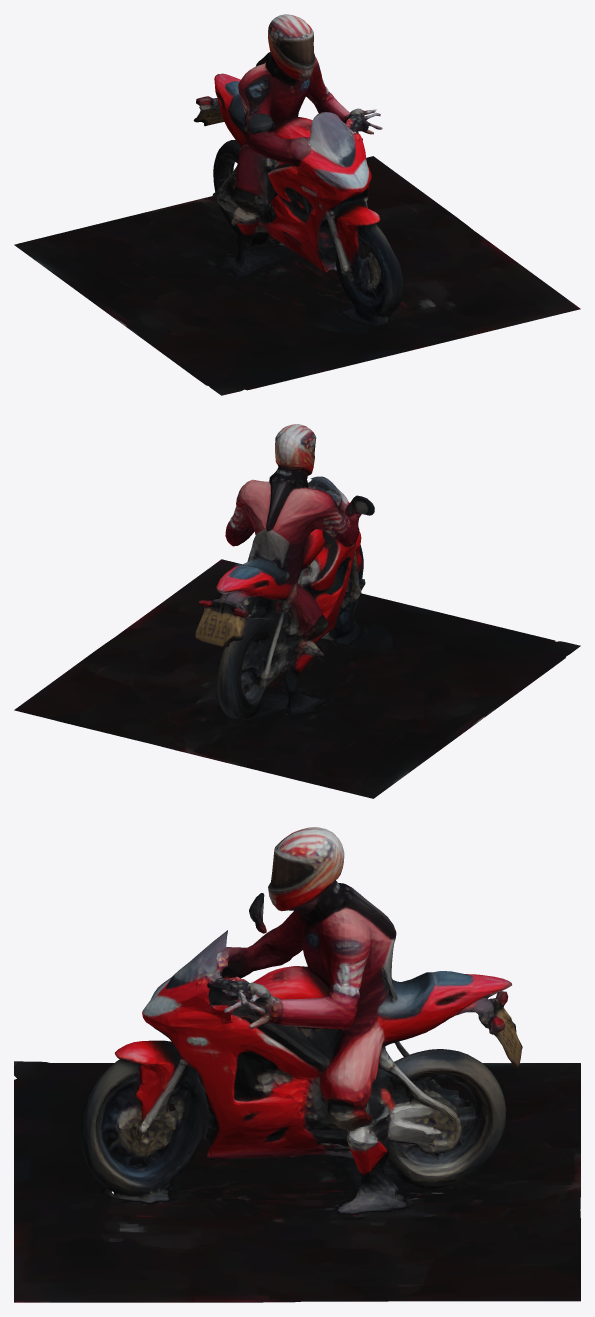
Rendered from 20250429_160810_Make_the_motorbike_r.glb.
The picture shows the model from 3 angles, top to bottom: view 1: azimuth 30°, elevation 25°; view 2: azimuth 150°, elevation 25°; view 3: azimuth 270°, elevation 25°; orthographic projection. The views are drawn at different scales.
Parts seen in each view (by area): view 1: world; view 2: world; view 3: world.
Boxes of the visible parts, x1,y1,x2,y2 form: world: (14, 14, 580, 395); world: (14, 424, 580, 798); world: (14, 827, 580, 1302).
Bounding box in the file's own units: 1 × 0.6846 × 1.
1 material, 1 textured.
